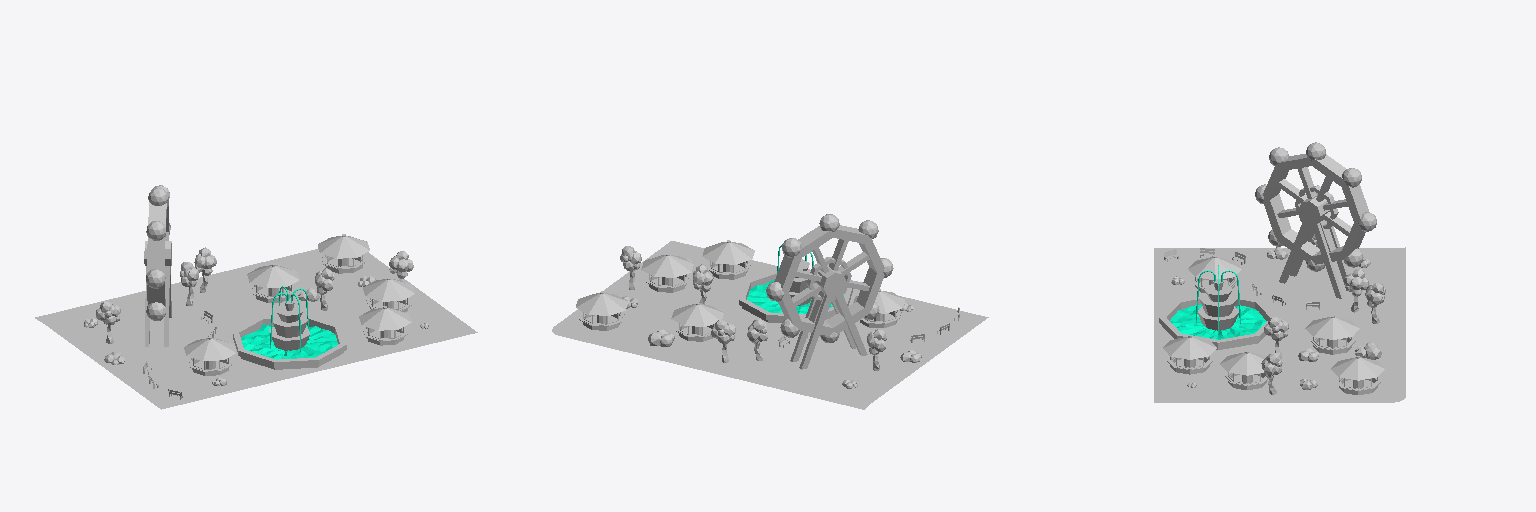
Rendered from NewPark.obj.
The picture shows the model from 3 angles: view 1: azimuth 30°, elevation 25°; view 2: azimuth 150°, elevation 25°; view 3: azimuth 270°, elevation 25°; orthographic projection.
Parts seen in each view (by area): view 1: CURVA_DESTRA.008, Cylinder.010, Cylinder.009, Cylinder.011, Cylinder.015, Cylinder.013, Cylinder.019, Cylinder.016, Cylinder.014; view 2: CURVA_DESTRA.008, Cylinder.009, Cylinder.013, Cylinder.014, Cylinder.015, Cylinder.010, Cylinder.016, Cylinder.019, Cylinder.011; view 3: CURVA_DESTRA.008, Cylinder.009, Cylinder.010, Cylinder.011, Cylinder.015, Cylinder.016, Cylinder.013, Cylinder.014, Cylinder.019.
Part boxes in pixels (bbox=[...]): CURVA_DESTRA.008: bbox=[35, 249, 477, 409]; Cylinder.010: bbox=[233, 300, 346, 369]; Cylinder.009: bbox=[144, 197, 171, 346]; Cylinder.011: bbox=[241, 324, 338, 359]; Cylinder.015: bbox=[359, 306, 411, 345]; Cylinder.013: bbox=[318, 234, 369, 273]; Cylinder.019: bbox=[184, 337, 235, 375]; Cylinder.016: bbox=[247, 264, 299, 302]; Cylinder.014: bbox=[363, 277, 414, 311]; CURVA_DESTRA.008: bbox=[552, 241, 988, 409]; Cylinder.009: bbox=[774, 225, 884, 369]; Cylinder.013: bbox=[576, 291, 627, 330]; Cylinder.014: bbox=[641, 253, 693, 292]; Cylinder.015: bbox=[702, 240, 754, 279]; Cylinder.010: bbox=[739, 259, 852, 322]; Cylinder.016: bbox=[671, 302, 723, 341]; Cylinder.019: bbox=[853, 289, 904, 327]; Cylinder.011: bbox=[747, 280, 843, 313]; CURVA_DESTRA.008: bbox=[1154, 247, 1405, 402]; Cylinder.009: bbox=[1263, 154, 1368, 298]; Cylinder.010: bbox=[1159, 279, 1275, 349]; Cylinder.011: bbox=[1170, 304, 1266, 339]; Cylinder.015: bbox=[1163, 335, 1216, 374]; Cylinder.016: bbox=[1305, 315, 1359, 354]; Cylinder.013: bbox=[1331, 356, 1384, 394]; Cylinder.014: bbox=[1220, 351, 1268, 389]; Cylinder.019: bbox=[1188, 255, 1241, 292].
Bounding box in the file's own units: 41.71 × 18.52 × 28.6.